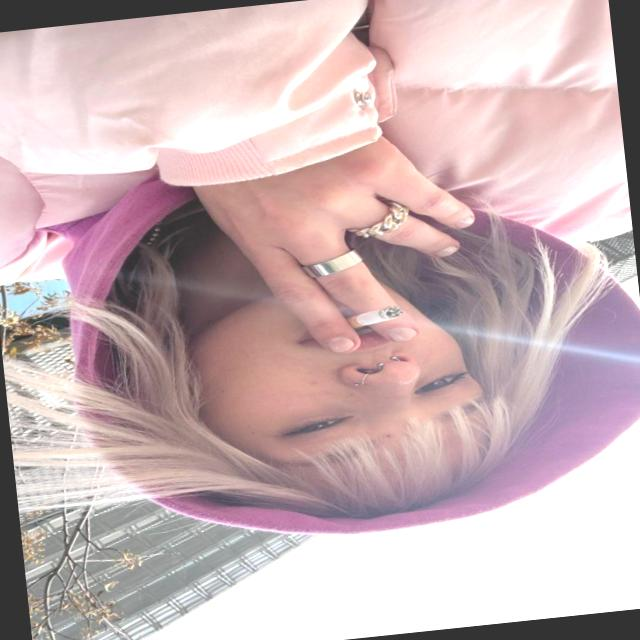cigarette: (329, 288, 434, 346)
